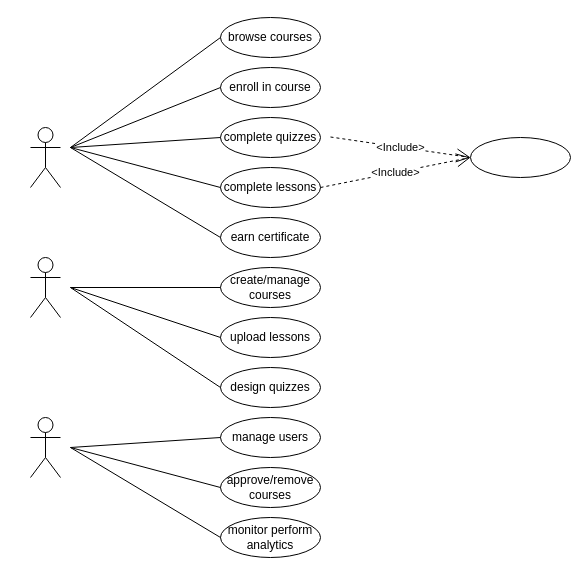
The diagram is 588 pixels wide and 575 high, and some of its shapes have lost their labels. Here are the shapes that lost their labels. From the top down, the centre of each, then its label:
At point 45,157: "Students".
At point 520,157: "generate certificate".
At point 45,287: "Instructors".
At point 45,447: "Admins".
